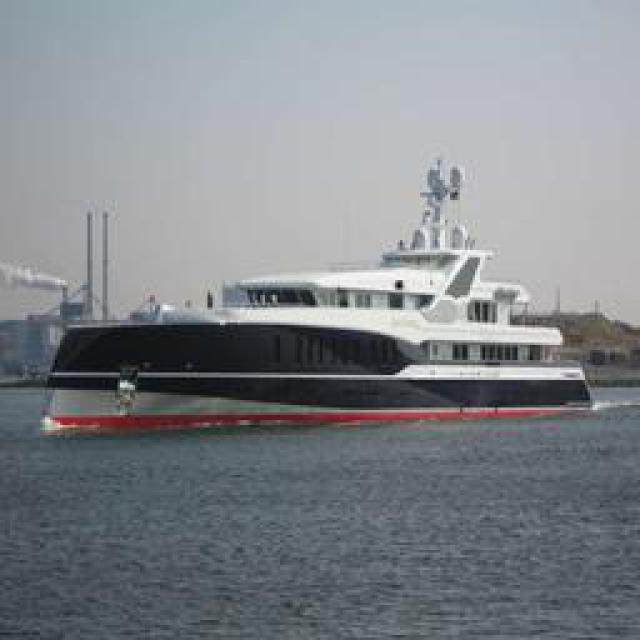Ship: (45, 156, 573, 429)
